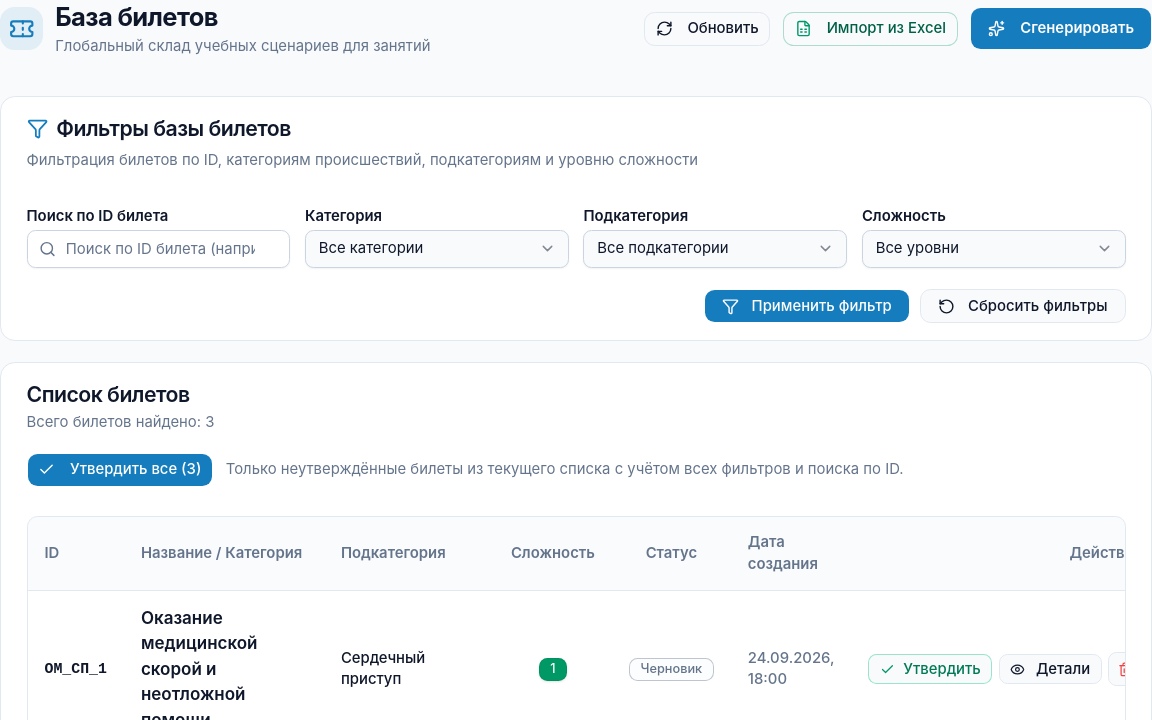
Test: 27.2 / ТЗ 30: База билетов и генерация › ТЗ 36.1: should allow editing ticket fields in details modal and saving via PATCH
This screenshot has width=1152, height=720.
Open Details modal
Click the button "Детали" at (1050, 669), box [999,654,1102,684]
(page scrolled)
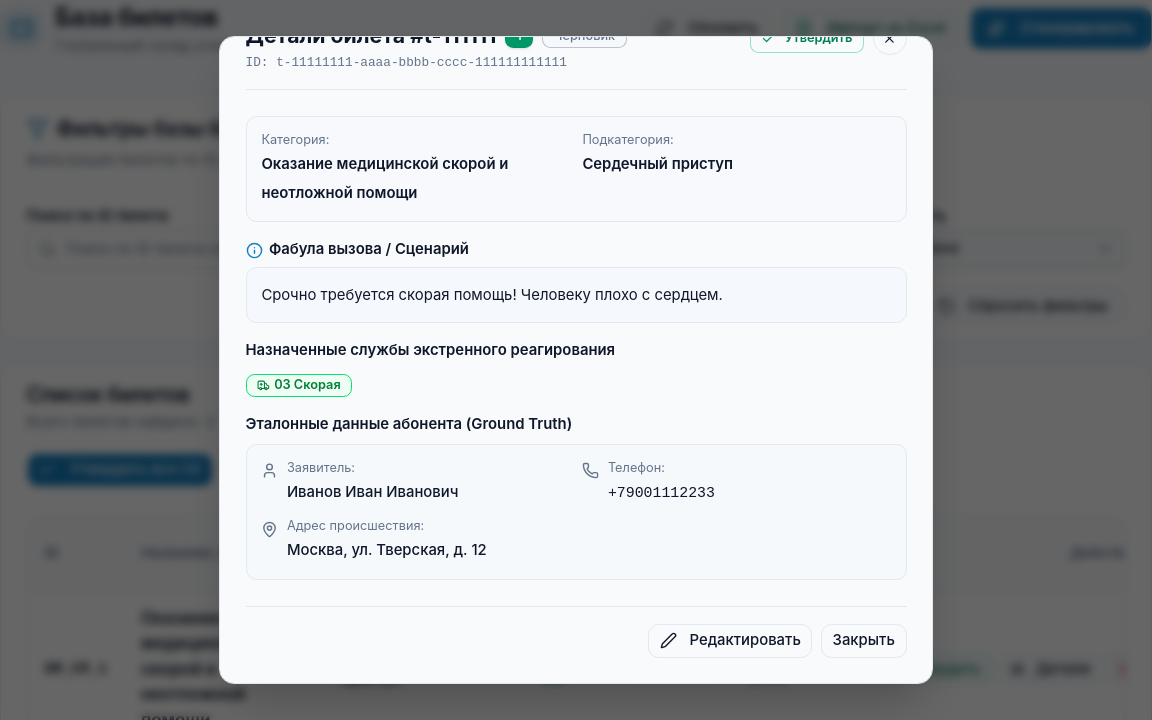
Result: the dialog is shown
Click "Редактировать"
Click the button "Редактировать" at (730, 641), box [648,624,812,658]
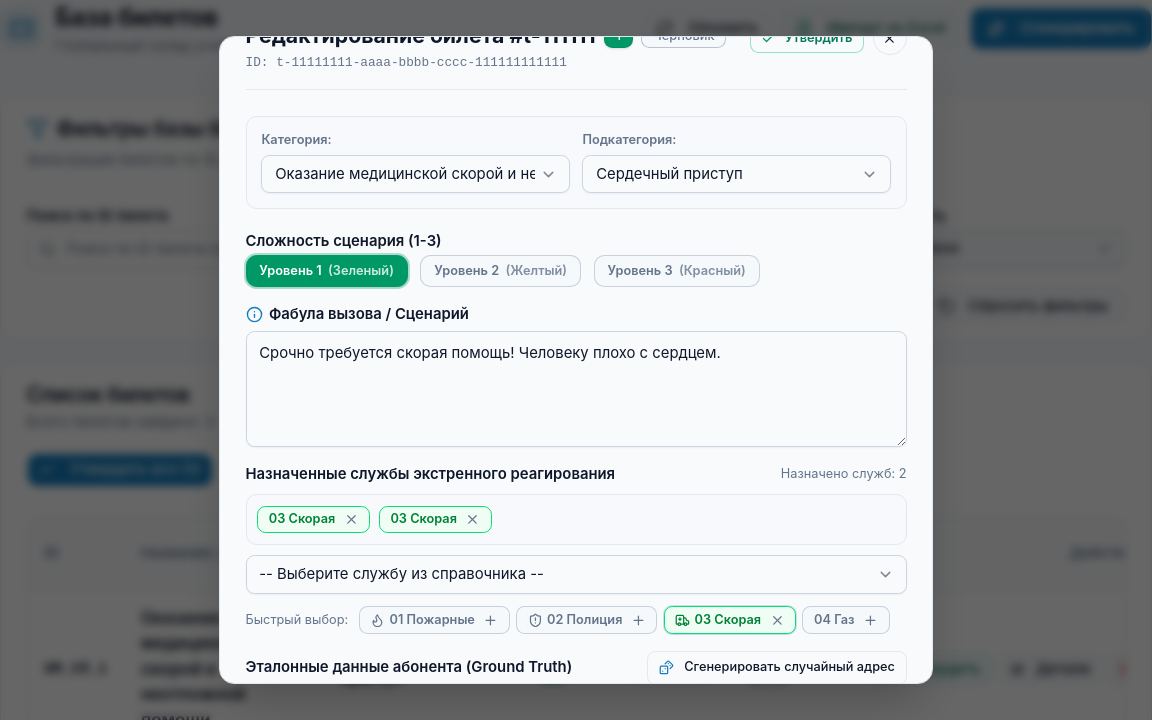
Result: the text box labelled "Фабула вызова / Сценарий" is shown
Replace the text in the text box labelled "Фабула вызова / Сценарий" with "Обновленная фабула вызова скорой помощи!" at (576, 389), box [246,332,906,447]
(page scrolled)
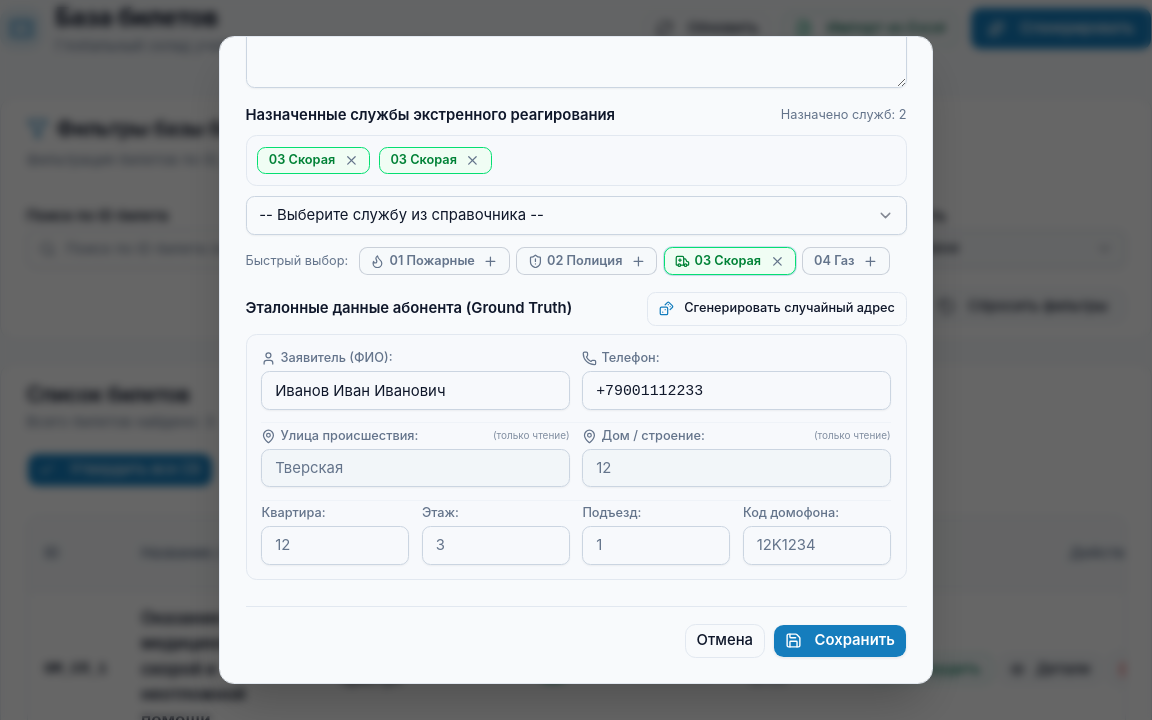
Edit FIO and phone
Type "Кузнецов Алексей Петрович" into the field named "ФИО заявителя" at (416, 391), box [261,371,570,410]
Replace the text in the field named "Телефон заявителя" with "+79998887766" at (737, 391), box [582,371,891,410]
Toggle service: Add 01 Пожарные
Click the button "01 Пожарные" at (434, 261), box [359,247,510,275]
(page scrolled)
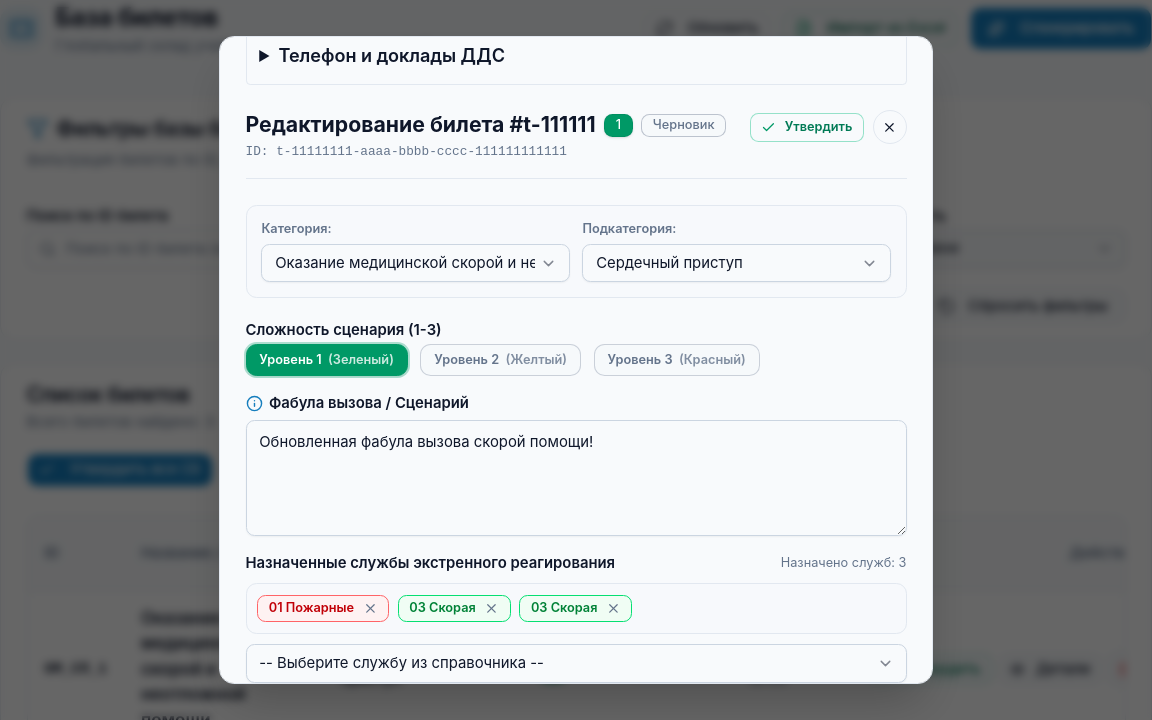
Change complexity: click Level 2
Click the button with aria-label "Сложность 2" at (501, 360), box [420,344,581,376]
(page scrolled)
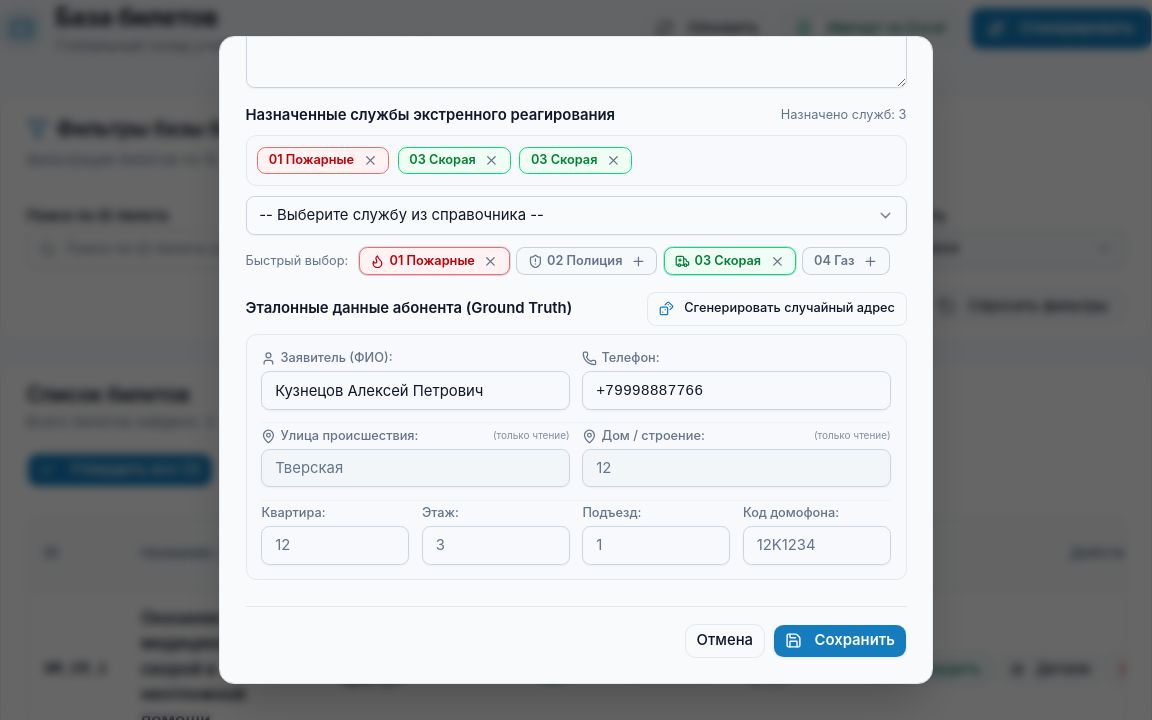
Click "Сохранить"
Click the button "Сохранить" at (840, 641), box [773,624,906,658]
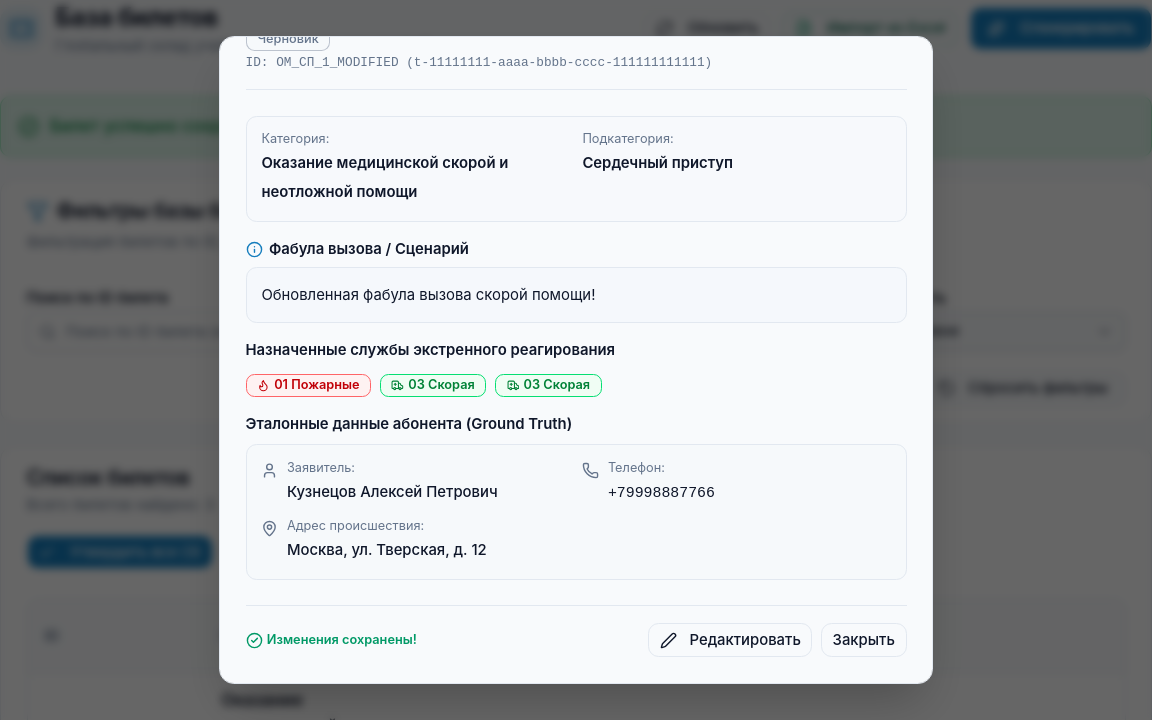
Result: the text "Изменения сохранены!" is shown at [246,632,417,649]
